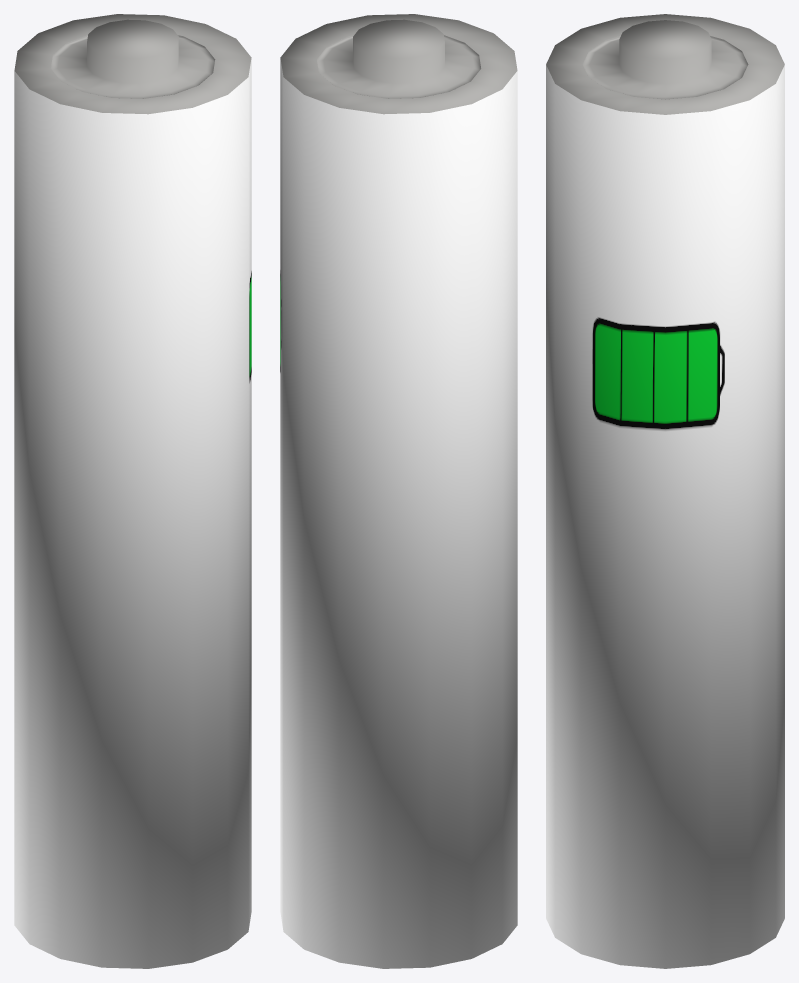
Rendered from BatteryF.fbx.
3 renders of one model, left to right at view 1: azimuth 30°, elevation 25°; view 2: azimuth 150°, elevation 25°; view 3: azimuth 270°, elevation 25°, orthographic.
Visible parts, largest first — view 1: Cylinder.001; view 2: Cylinder.001; view 3: Cylinder.001.
Boxes of the visible parts, left/top/right/bottom form: Cylinder.001: left=14, top=14, right=251, bottom=968; Cylinder.001: left=280, top=14, right=517, bottom=968; Cylinder.001: left=546, top=14, right=784, bottom=968.
Bounding box in the file's own units: 74.34 × 304 × 74.34.
